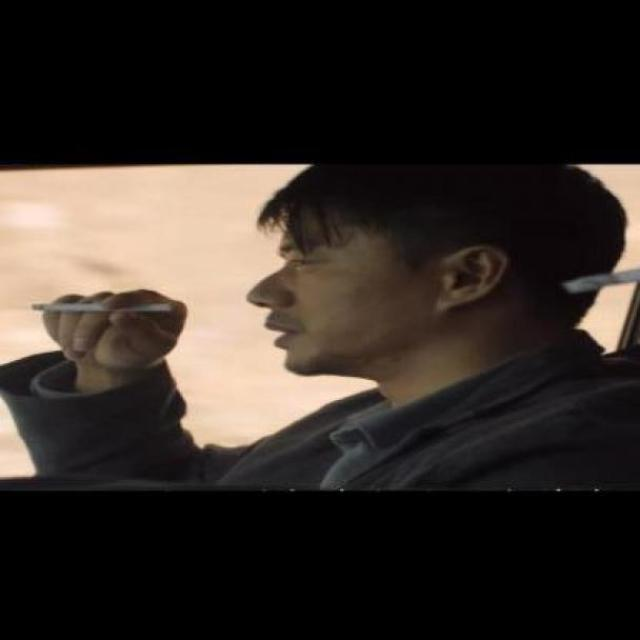rokok: (33, 298, 174, 320)
